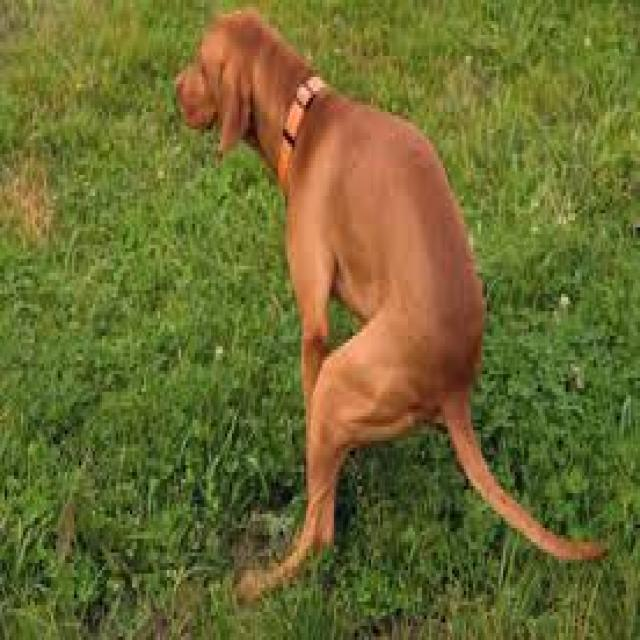Dogpoop: (171, 15, 612, 578)
